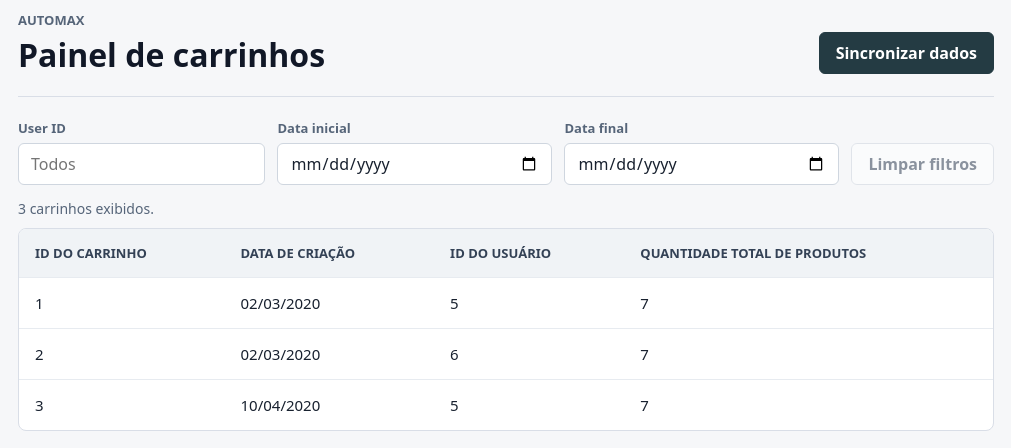
Test: CartListPage › filters carts by user and date range
Check: the text "1" is shown, box [19,277,224,328]
Type "5" into the field labelled "User ID" at (142, 164), box [18,143,266,185]
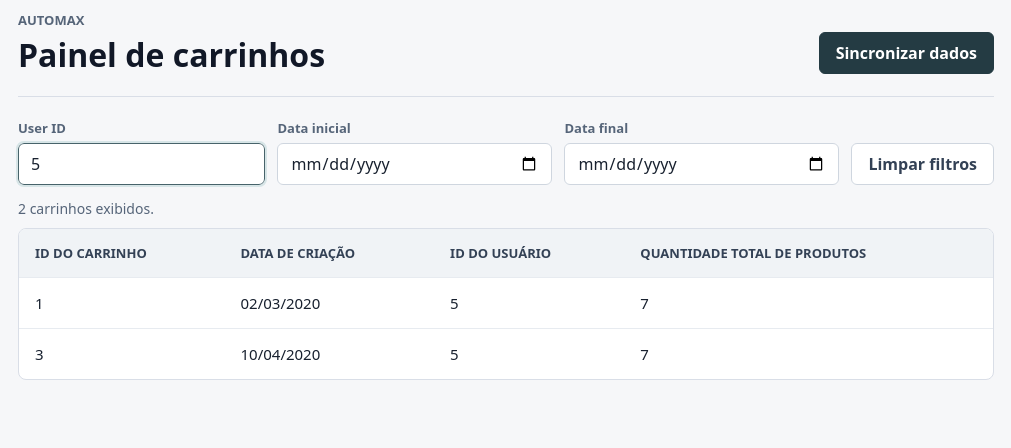
Type "2020-03-01" into the date field labelled "Data inicial" at (415, 164), box [278,143,552,185]
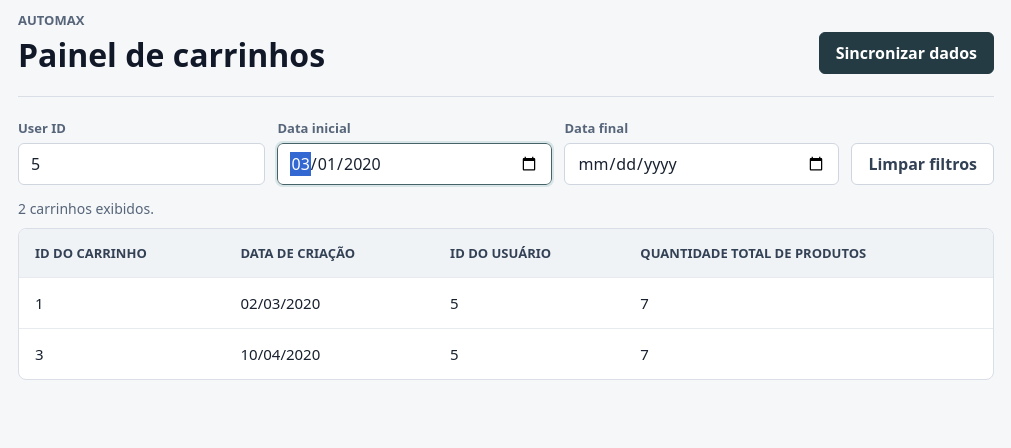
Type "2020-03-31" into the date field labelled "Data final" at (702, 164), box [564,143,840,185]
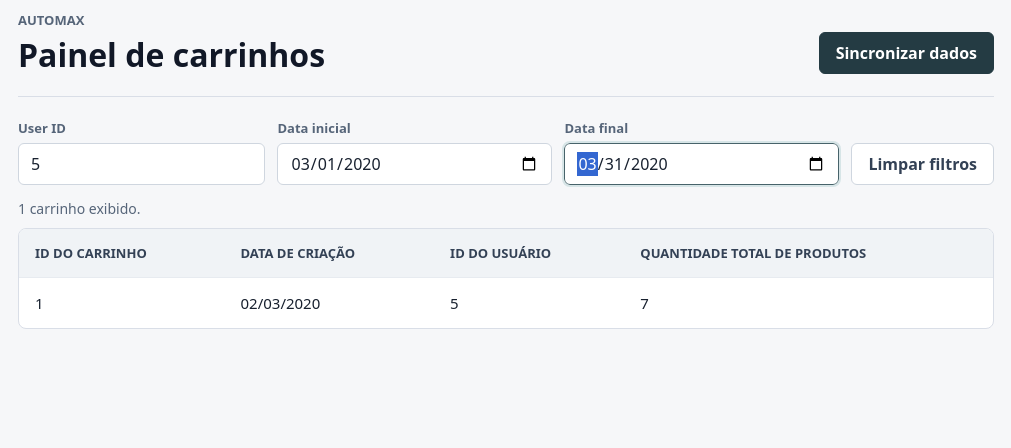
Check: the text "1" is shown, box [19,277,224,328]
Check: the text "1 carrinho exibido." is shown, box [18,199,140,218]
